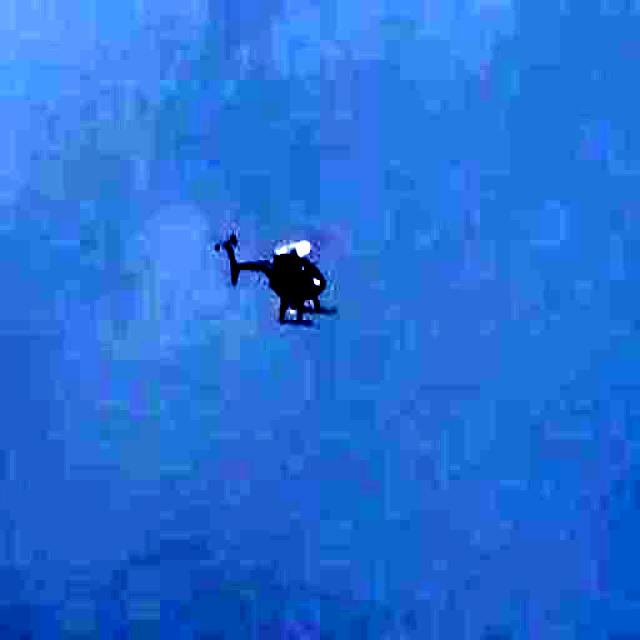drone: (174, 176, 370, 352)
